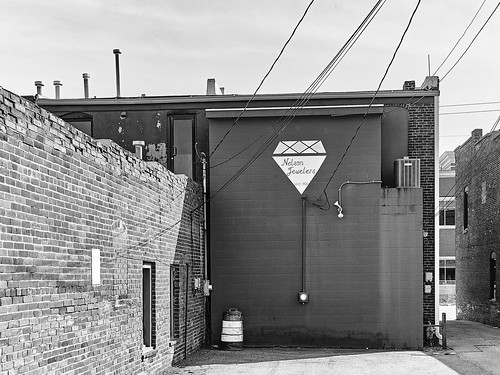building: (1, 84, 426, 375), (458, 131, 500, 329)
sky: (4, 2, 498, 90)
